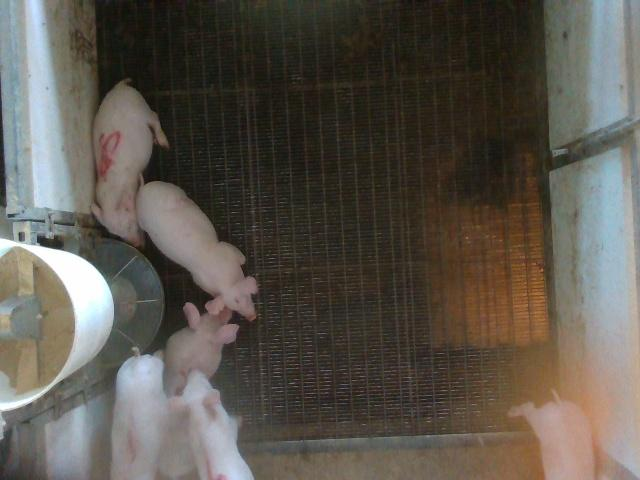pig-1: (111, 355, 168, 478)
pig-3: (159, 302, 239, 478)
pig-4: (182, 370, 254, 479)
pig-5: (91, 79, 169, 248)
